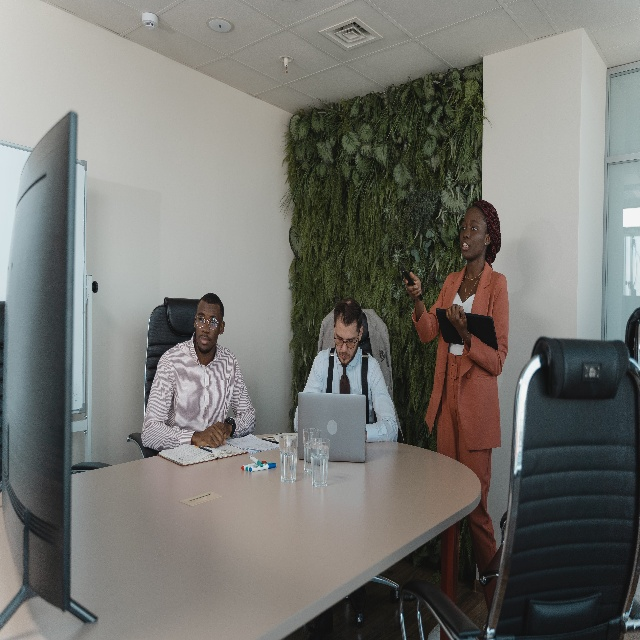Gafas: (196, 313, 218, 330), (333, 336, 356, 349)
Sin_guantes: (447, 302, 468, 340), (198, 424, 226, 450), (403, 268, 422, 300), (216, 420, 232, 440)
